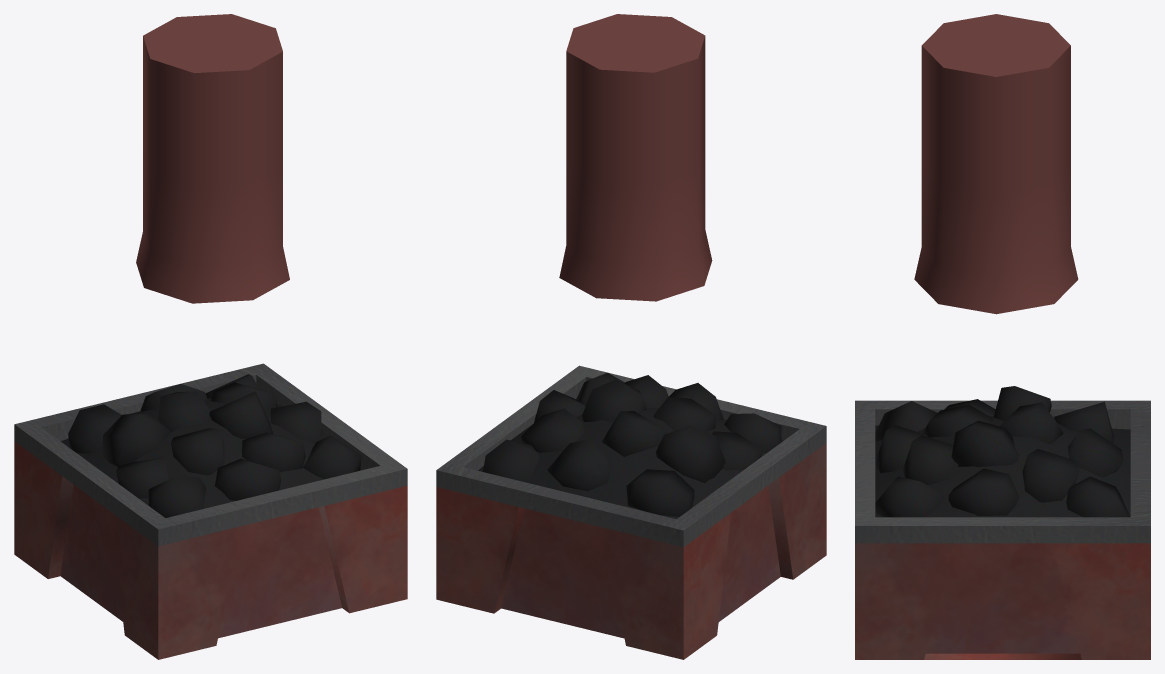
File: Coal_Stockpile.obj
3 renders of one model, left to right at view 1: azimuth 30°, elevation 25°; view 2: azimuth 150°, elevation 25°; view 3: azimuth 270°, elevation 25°, orthographic. The views are drawn at different scales.
Visible parts, largest first — view 1: Cube.001; view 2: Cube.001; view 3: Cube.001.
Part boxes in pixels (x1=…): Cube.001: x1=14, y1=14, x2=407, y2=659; Cube.001: x1=436, y1=14, x2=826, y2=659; Cube.001: x1=855, y1=14, x2=1150, y2=659.
Bounding box in the file's own units: 2 × 4.11 × 2.
Materials: 3 (3 with a texture image).
